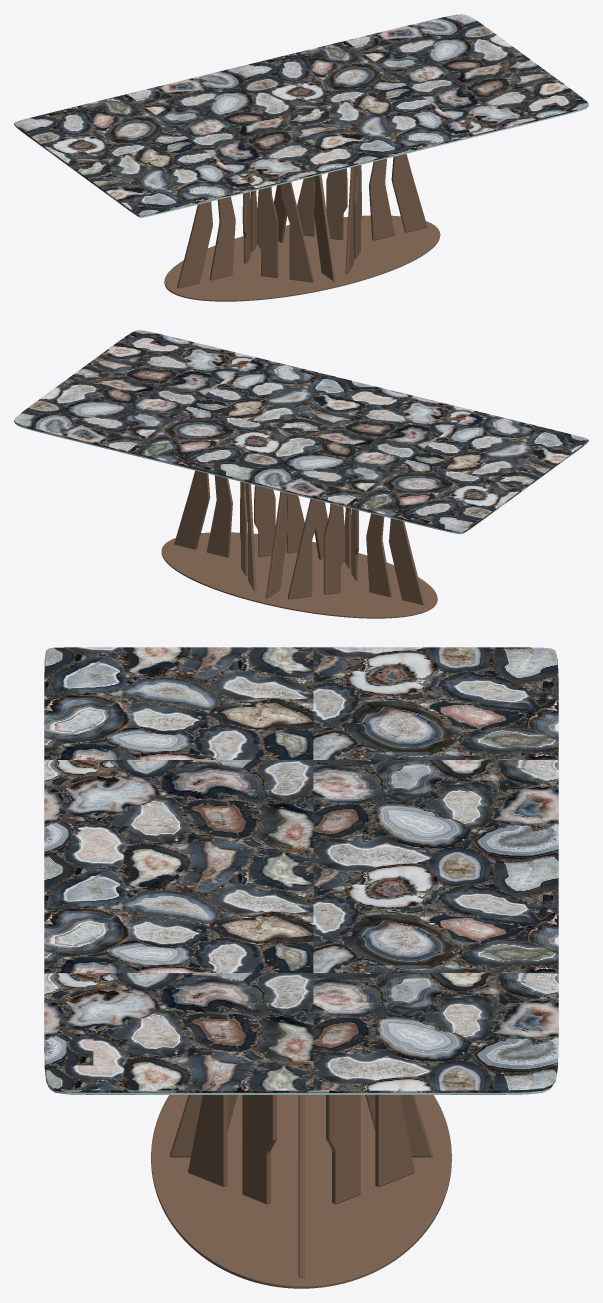
The model's file is SBH_Gunncraft.glb.
The picture shows the model from 3 angles, top to bottom: view 1: azimuth 30°, elevation 25°; view 2: azimuth 150°, elevation 25°; view 3: azimuth 270°, elevation 25°; orthographic projection. The views are drawn at different scales.
Parts seen in each view (by area): view 1: Gun Craft; view 2: Gun Craft; view 3: Gun Craft.
Part boxes in pixels (x1,y1,x2,y2): Gun Craft: (14, 14, 588, 301); Gun Craft: (14, 330, 588, 618); Gun Craft: (44, 647, 558, 1288).
Size of the model in its own units: 1.83 by 0.5612 by 0.8989.
3 materials, 1 textured.
